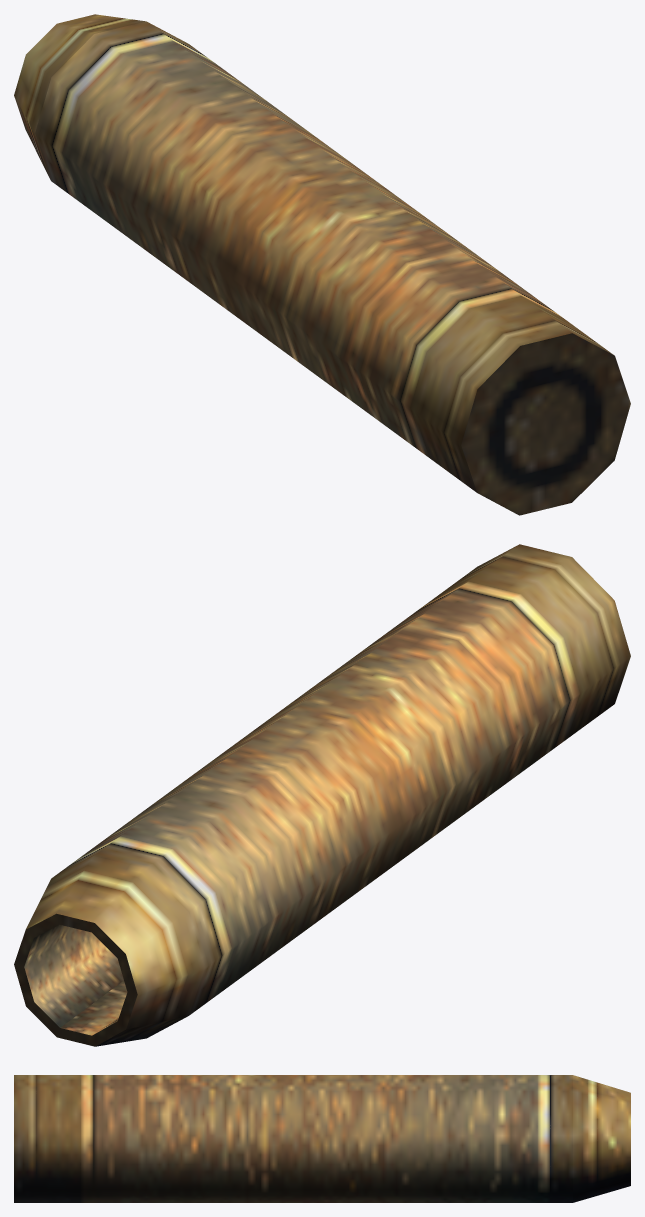
File: GPMG_Brass.FBX
3 renders of one model, top to bottom at view 1: azimuth 30°, elevation 25°; view 2: azimuth 150°, elevation 25°; view 3: azimuth 270°, elevation 25°, orthographic. The views are drawn at different scales.
Visible parts, largest first — view 1: GPMG_Brass; view 2: GPMG_Brass; view 3: GPMG_Brass.
Boxes of the visible parts, x1=… form: GPMG_Brass: x1=14, y1=14, x2=630, y2=515; GPMG_Brass: x1=14, y1=544, x2=630, y2=1046; GPMG_Brass: x1=14, y1=1075, x2=630, y2=1202.
Size of the model in its own units: 1.07 by 1.02 by 5.12.
